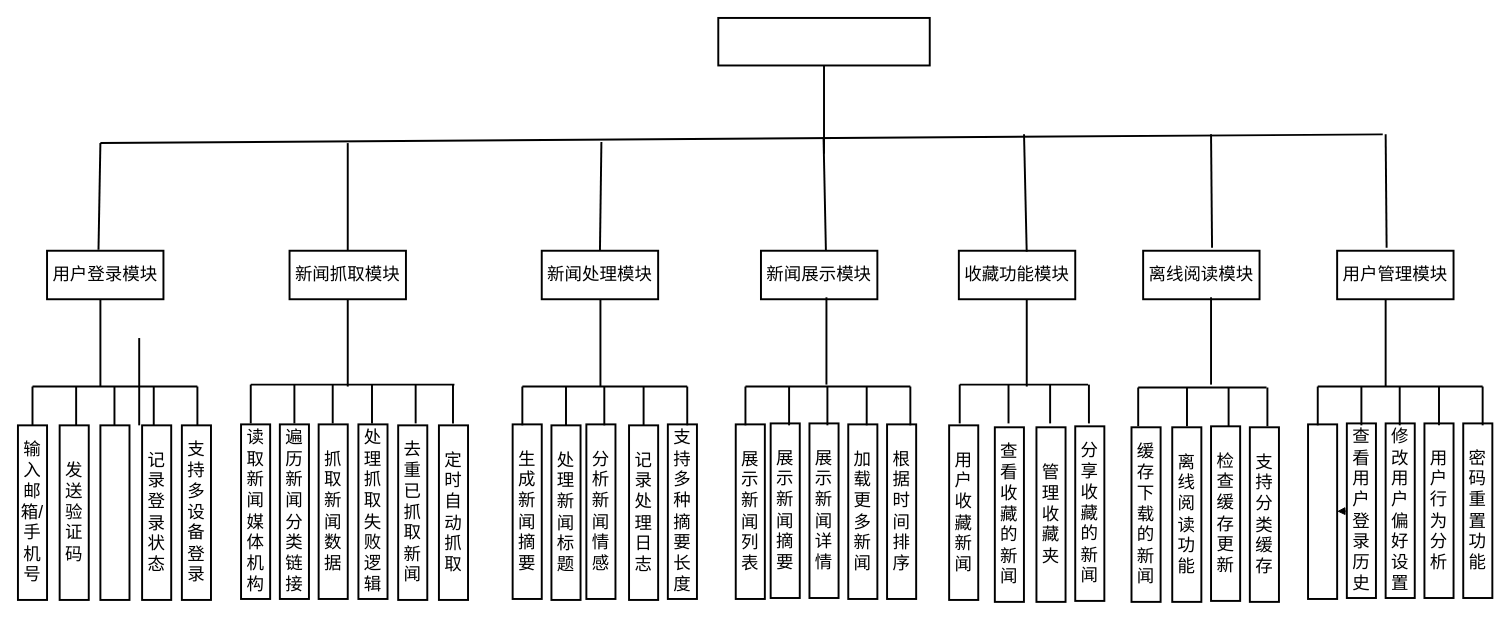
Image size: 1509x619. Some labels were removed from this diagram. Each missing label, with the centre of its shape:
"基于AI的新闻阅读系统" goes at point 823,41.
"用户信息管理" goes at point 1322,511.
"验证验证码" goes at point 114,512.
